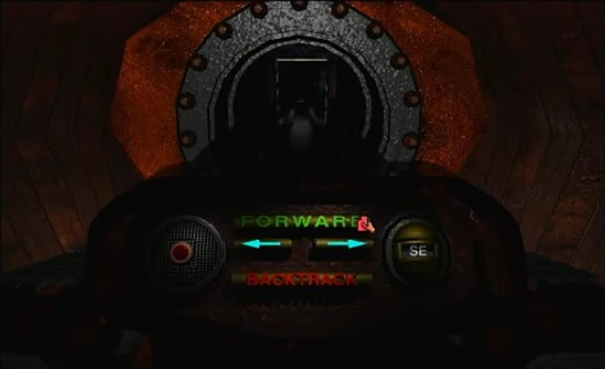Keep: (355, 212, 379, 234)
